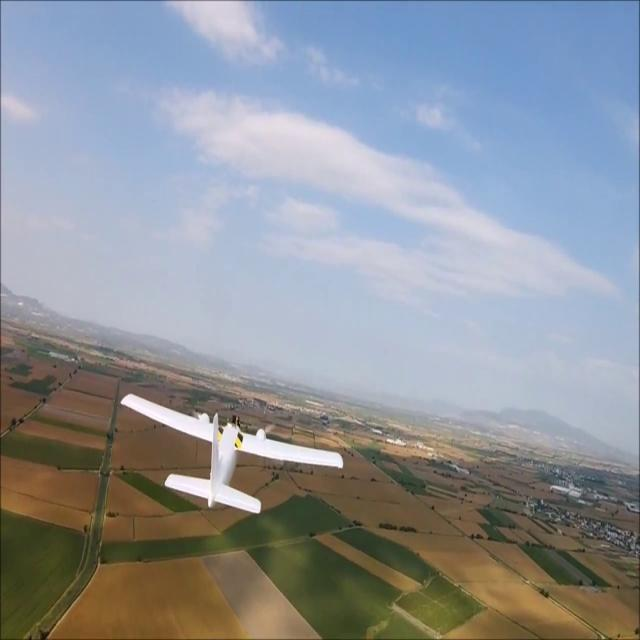iha: (122, 424, 346, 482)
